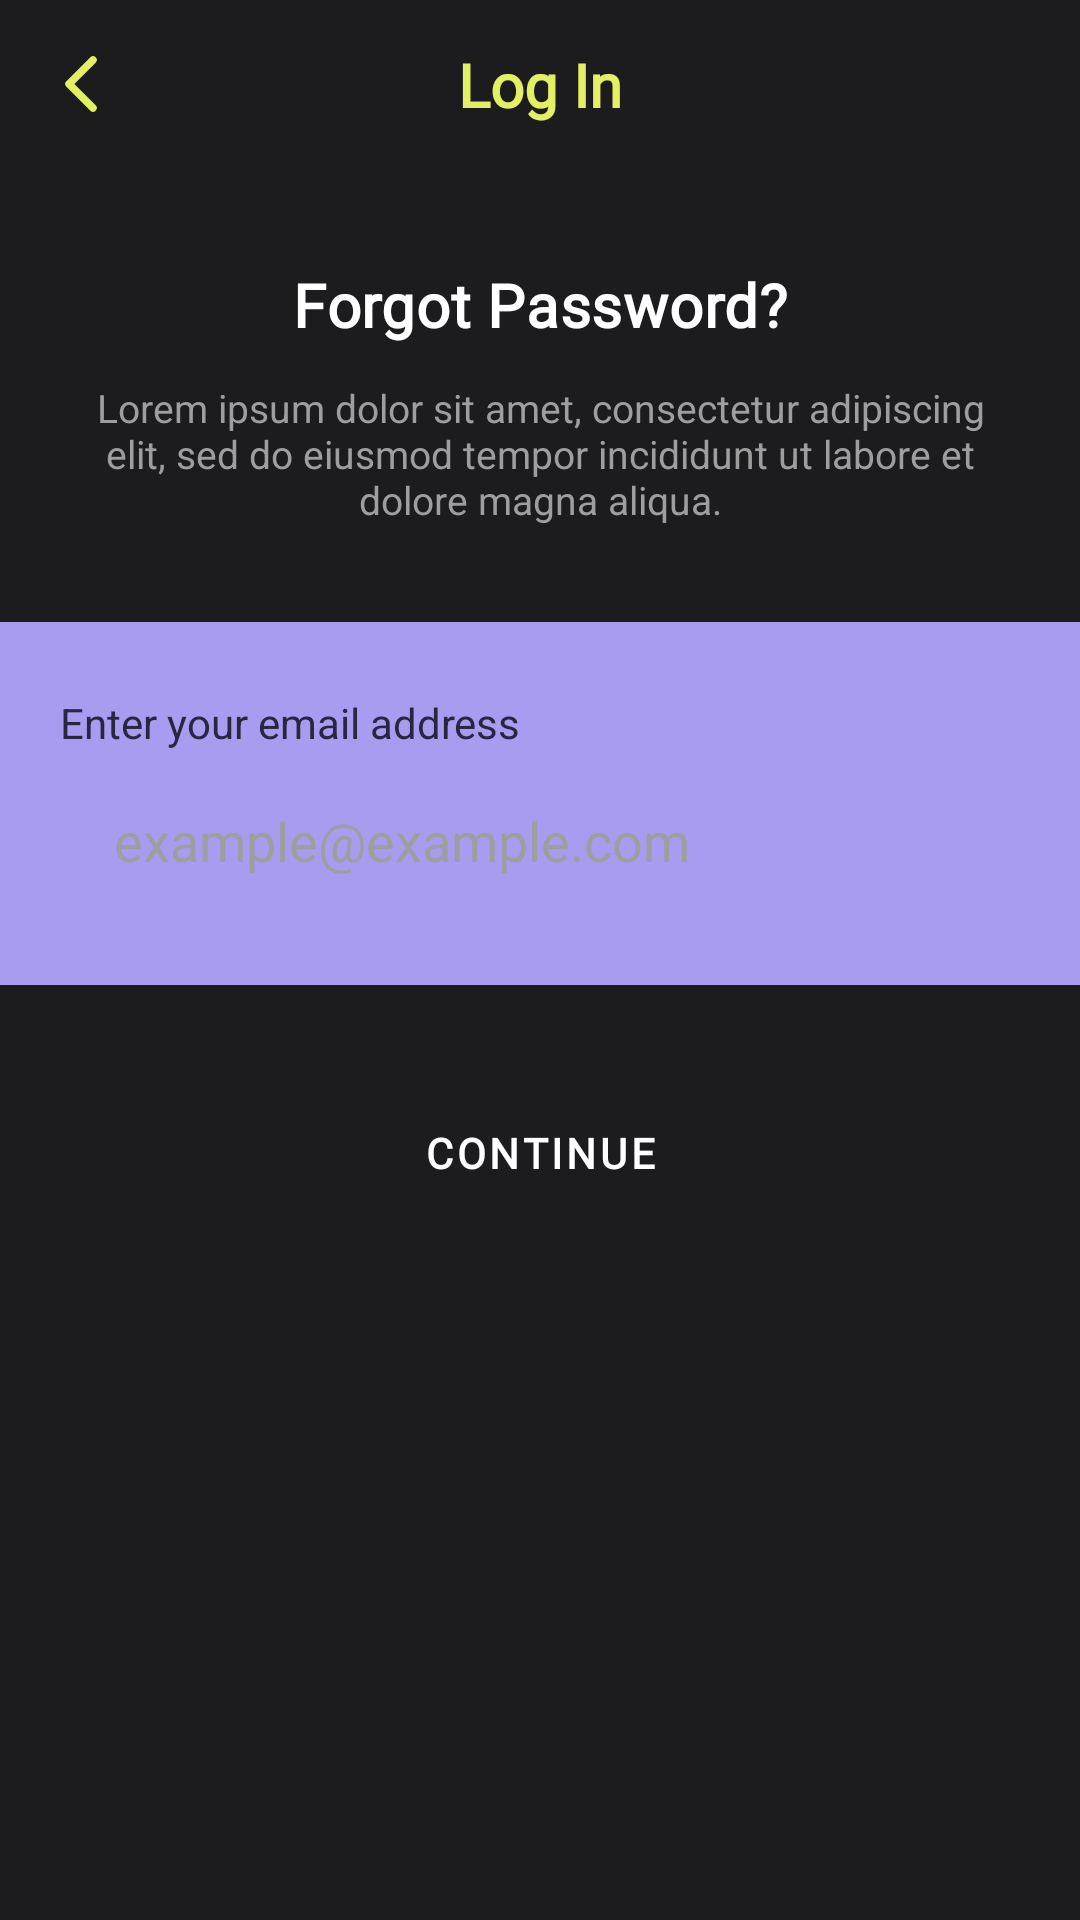

Icons on this 1080px×1920px Android screen, each with the point to tap as (x=x, y=y):
Volver: (x=81, y=84)
